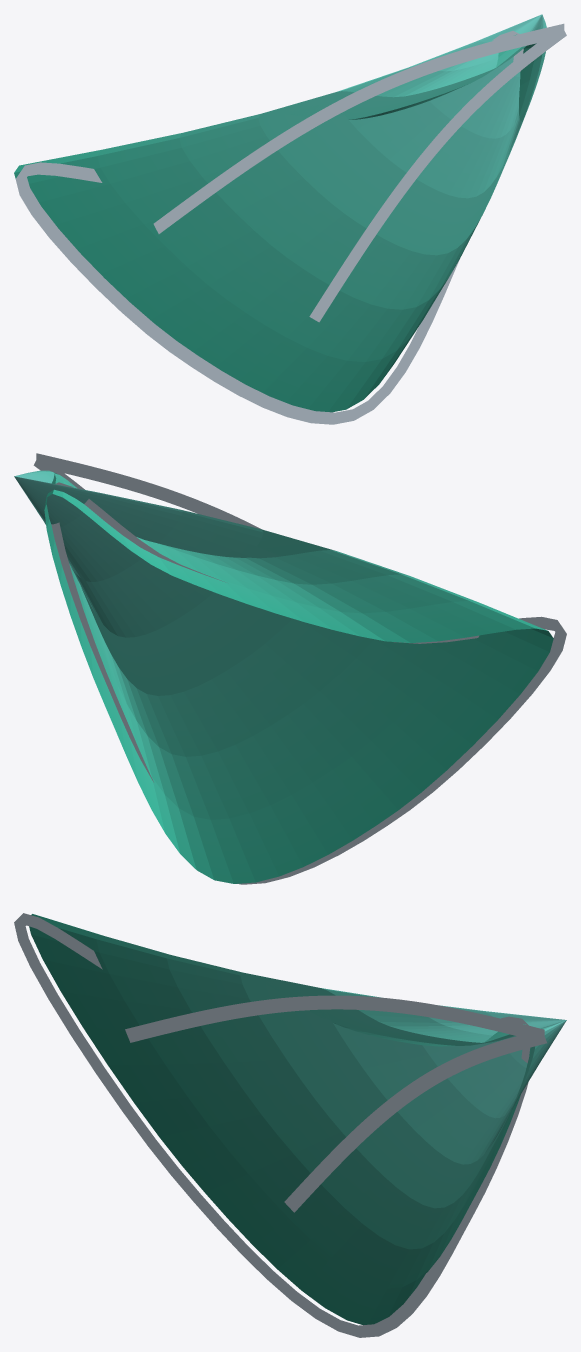
Rendered from Sucrose_LargeWindSpiritPulse_Pyro_WindWingLower-1.fbx.
3 renders of one model, top to bottom at view 1: azimuth 30°, elevation 25°; view 2: azimuth 150°, elevation 25°; view 3: azimuth 330°, elevation 25°, orthographic. The views are drawn at different scales.
Parts seen in each view (by area): view 1: PART_AuthoredWindWing_Lower_-1, PART_BrokenWindWingEdge_Lower_-1, PART_FlowingWingVein_Lower_-1_0, PART_FlowingWingVein_Lower_-1_1; view 2: PART_AuthoredWindWing_Lower_-1, PART_BrokenWindWingEdge_Lower_-1, PART_FlowingWingVein_Lower_-1_0; view 3: PART_AuthoredWindWing_Lower_-1, PART_BrokenWindWingEdge_Lower_-1, PART_FlowingWingVein_Lower_-1_0, PART_FlowingWingVein_Lower_-1_1.
Part boxes in pixels (bbox=[...]): PART_AuthoredWindWing_Lower_-1: bbox=[14, 14, 546, 412]; PART_BrokenWindWingEdge_Lower_-1: bbox=[15, 31, 523, 424]; PART_FlowingWingVein_Lower_-1_0: bbox=[153, 23, 564, 233]; PART_FlowingWingVein_Lower_-1_1: bbox=[309, 25, 566, 322]; PART_AuthoredWindWing_Lower_-1: bbox=[14, 470, 553, 883]; PART_BrokenWindWingEdge_Lower_-1: bbox=[51, 482, 566, 884]; PART_FlowingWingVein_Lower_-1_0: bbox=[36, 453, 261, 529]; PART_AuthoredWindWing_Lower_-1: bbox=[29, 914, 566, 1324]; PART_BrokenWindWingEdge_Lower_-1: bbox=[14, 913, 530, 1337]; PART_FlowingWingVein_Lower_-1_0: bbox=[125, 995, 544, 1042]; PART_FlowingWingVein_Lower_-1_1: bbox=[284, 1030, 546, 1212].
Bounding box in the file's own units: 170 × 109 × 12.
